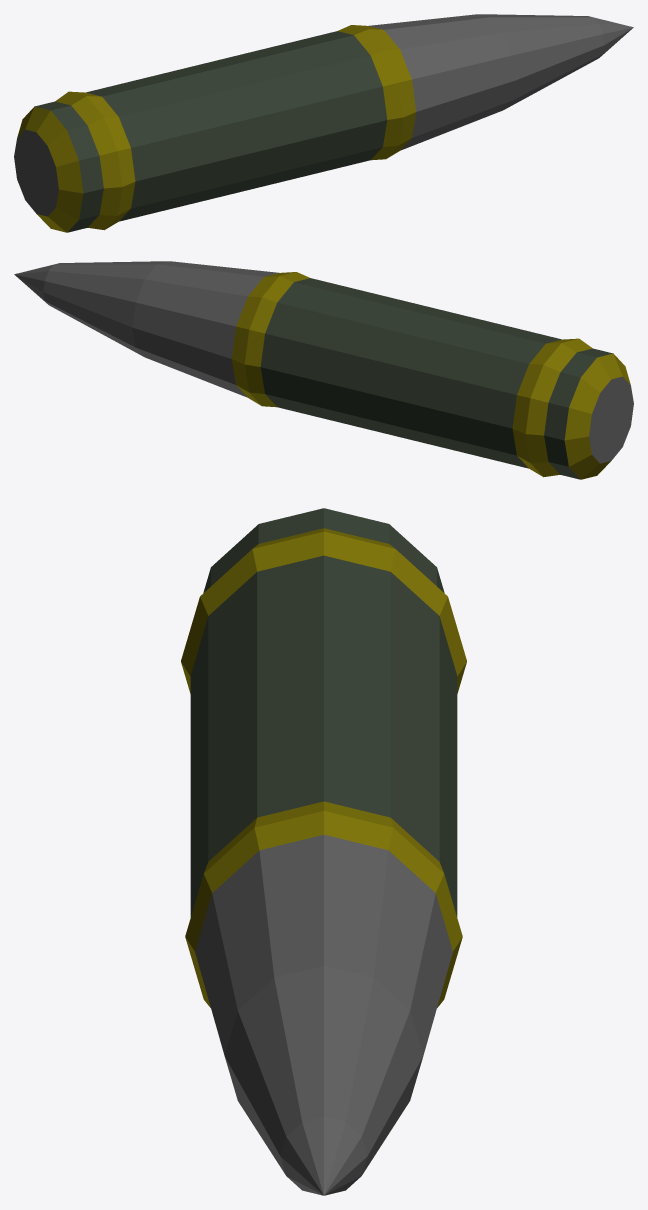
The picture shows the model from 3 angles, top to bottom: view 1: azimuth 30°, elevation 25°; view 2: azimuth 150°, elevation 25°; view 3: azimuth 270°, elevation 25°; orthographic projection. The views are drawn at different scales.
Visible parts, largest first — view 1: Cylinder; view 2: Cylinder; view 3: Cylinder.
Boxes of the visible parts, box(x1,y1,x2,y2) form: Cylinder: box(14, 14, 633, 232); Cylinder: box(14, 261, 633, 479); Cylinder: box(181, 508, 466, 1195).
Size of the model in its own units: 1107 by 230 by 230.
